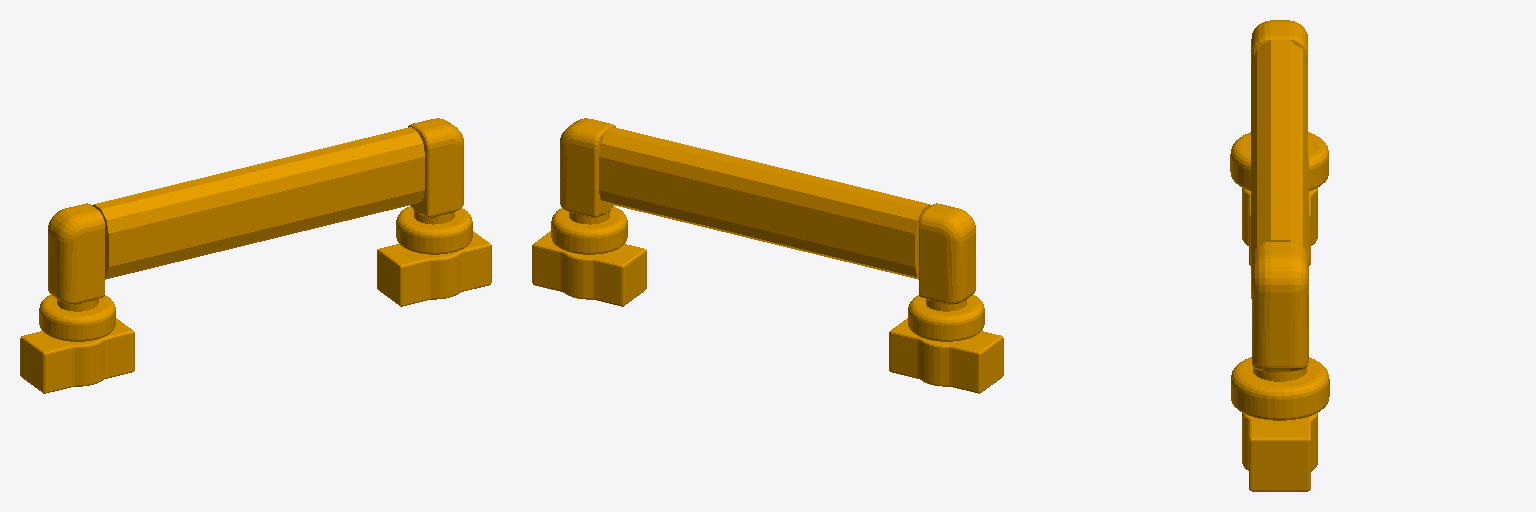
The robot description file, URDF, robot "handrail_8_5":
<?xml version="1.0"?>

<!-- Copyright (c) 2017, United States Government, as represented by the     -->
<!-- Administrator of the National Aeronautics and Space Administration.     -->
<!--                                                                         -->
<!-- All rights reserved.                                                    -->
<!--                                                                         -->
<!-- The Astrobee platform is licensed under the Apache License, Version 2.0 -->
<!-- (the "License"); you may not use this file except in compliance with    -->
<!-- the License. You may obtain a copy of the License at                    -->
<!--                                                                         -->
<!--     http://www.apache.org/licenses/LICENSE-2.0                          -->
<!--                                                                         -->
<!-- Unless required by applicable law or agreed to in writing, software     -->
<!-- distributed under the License is distributed on an "AS IS" BASIS,       -->
<!-- WITHOUT WARRANTIES OR CONDITIONS OF ANY KIND, either express or         -->
<!-- implied. See the License for the specific language governing            -->
<!-- permissions and limitations under the License.                          -->

<robot name="handrail_8_5" xmlns:xacro="http://www.ros.org/wiki/xacro">
  <link name="body">
    <inertial>
      <mass value="20"/>
      <origin xyz="0 0 0"/>
      <inertia ixx="1" ixy="0" ixz="0" iyy="1" iyz="0" izz="1"/>
    </inertial>
    <visual name="body_visual">
      <origin xyz="0 0 0" rpy="0 0 0" />
      <geometry>
        <mesh filename="package://astrobee_handrail_8_5/meshes/handrail_8_5.dae"/>
      </geometry>
    </visual>
    <collision name="body_collision">
      <origin xyz="0 0 0" rpy="0 0 0" />
      <geometry>
        <mesh filename="package://astrobee_handrail_8_5/meshes/handrail_8_5.dae"/>
      </geometry>
    </collision>
  </link>
  <gazebo>
    <static>true</static>
  </gazebo>
</robot>

--- Facts derived from the render (not from the file) ---
The picture shows the robot from 3 angles, left to right: view 1: azimuth 30°, elevation 25°; view 2: azimuth 150°, elevation 25°; view 3: azimuth 270°, elevation 25°; orthographic projection.
Robot: handrail_8_5 — 1 links, 0 joints (none); root link body; default pose: all joints at 0.
Visible links, largest first — view 1: body; view 2: body; view 3: body.
Boxes of the visible links, x1,y1,x2,y2 form: body: (20,118,491,393); body: (532,118,1003,393); body: (1230,20,1329,491).
Bounding box of the posed robot: 0.2235 × 0.0331 × 0.0782 m (x, y, z).
1 mesh visuals loaded from 1 distinct referenced files (1 Collada DAE).